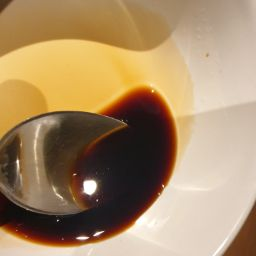Soy Sauce: (13, 107, 192, 244)
